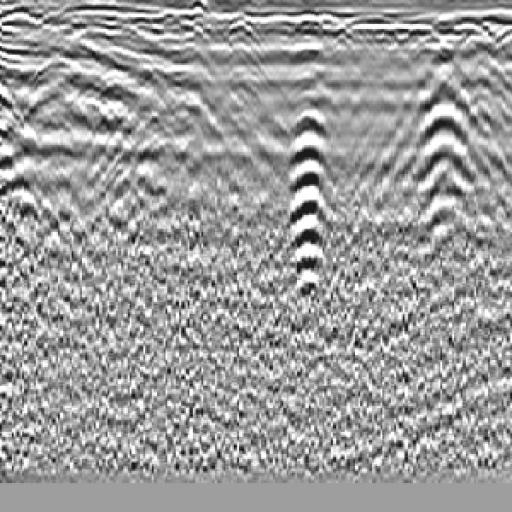non-metallic: (380, 44, 512, 247), (258, 67, 367, 303)
